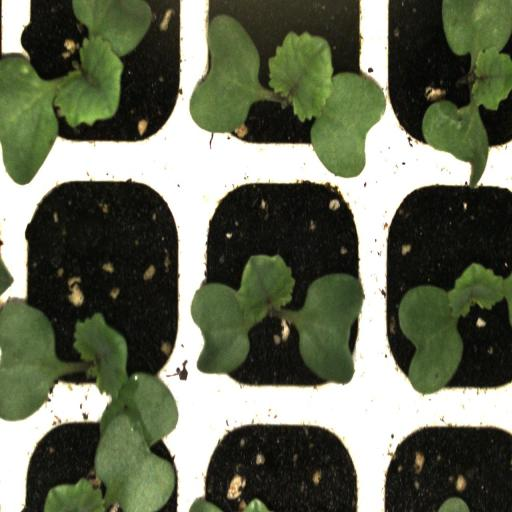seedling: (188, 165, 372, 406), (12, 167, 189, 413), (373, 170, 512, 407), (192, 0, 372, 170), (10, 0, 191, 164), (375, 1, 512, 166)
